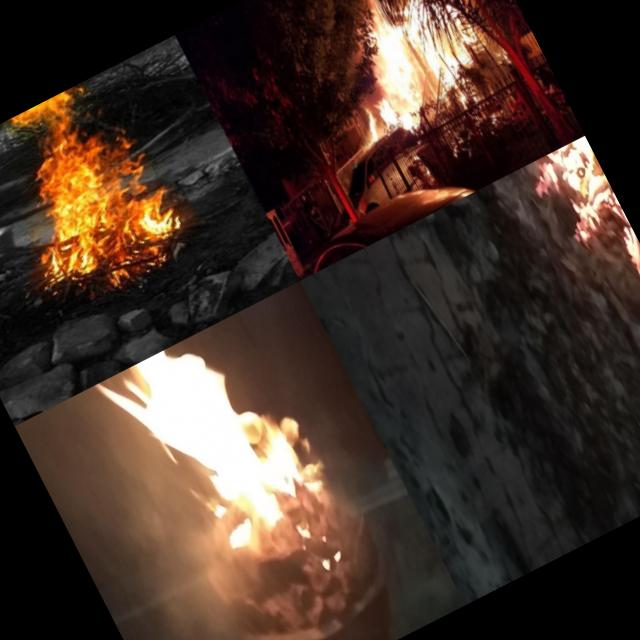fire: (89, 312, 354, 615), (0, 66, 196, 303), (528, 136, 640, 488), (311, 0, 495, 151)
